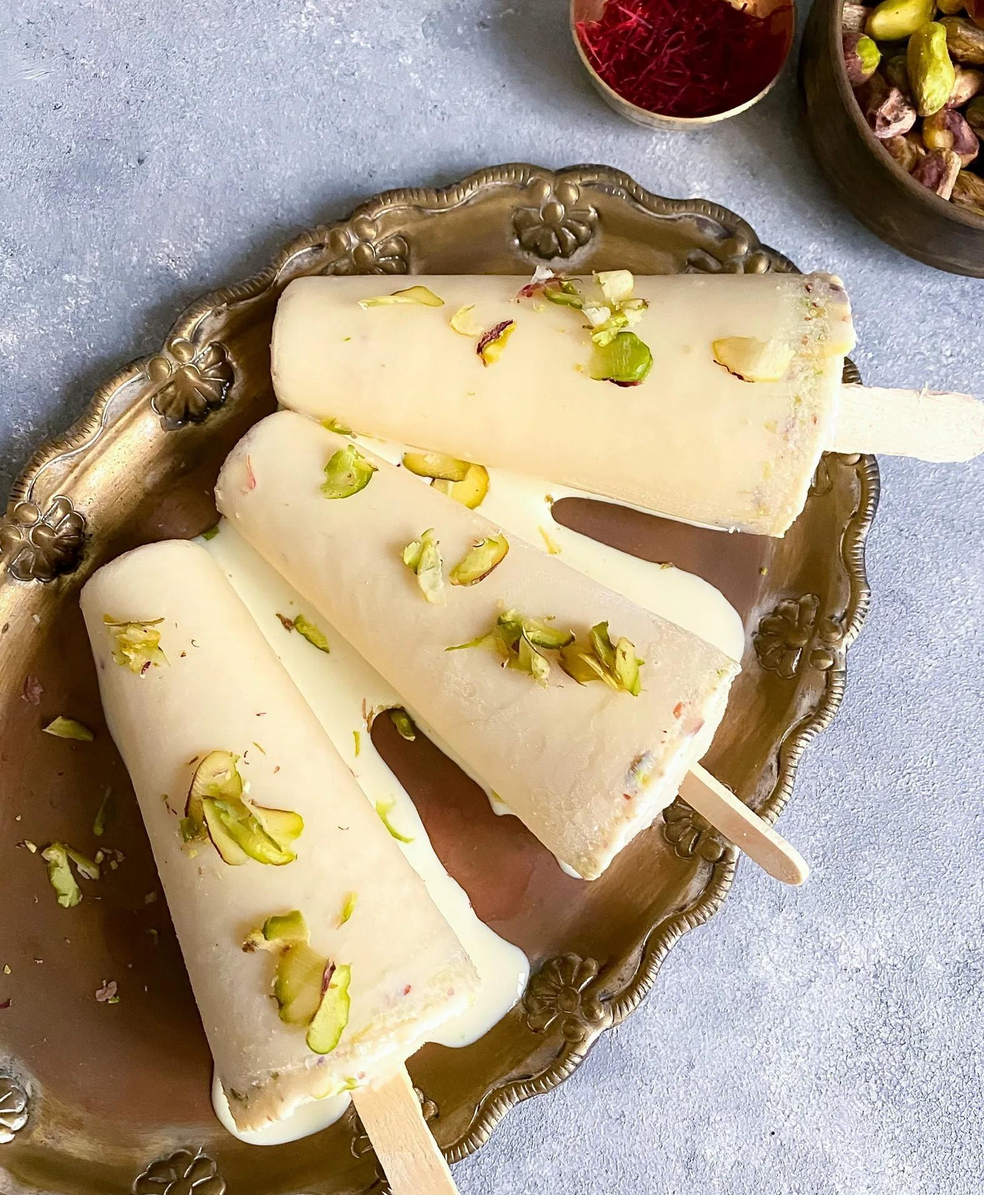Kulfi: (213, 413, 736, 878), (76, 542, 475, 1132), (274, 275, 843, 536)
